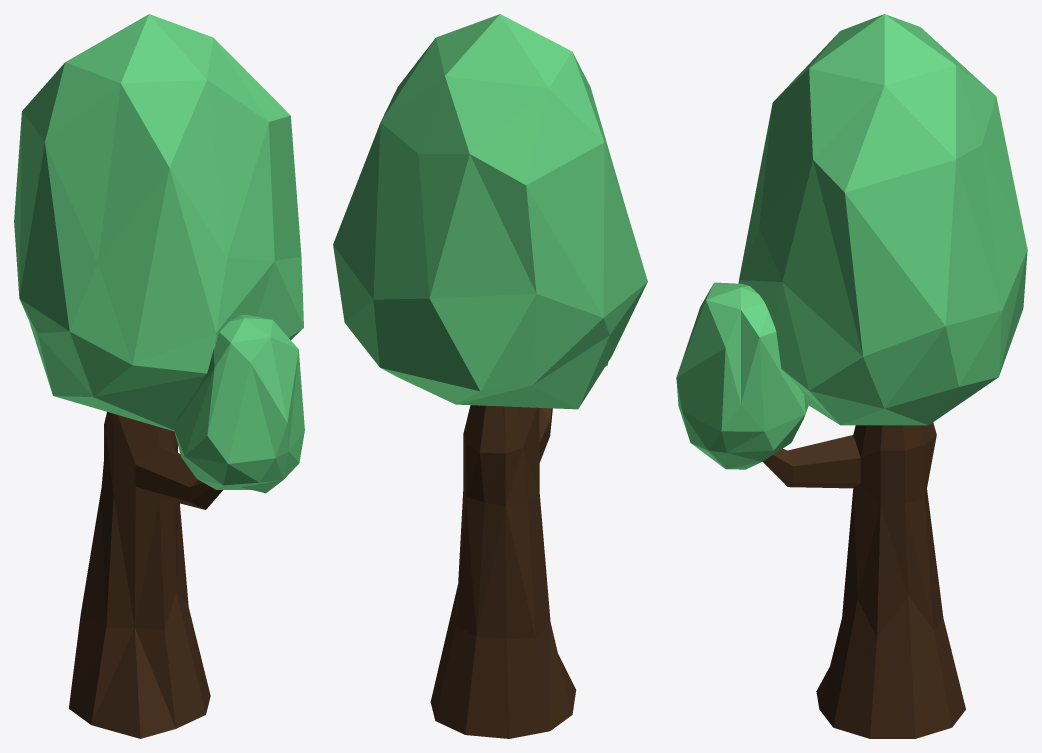
The model's file is baum2.fbx.
3 renders of one model, left to right at view 1: azimuth 30°, elevation 25°; view 2: azimuth 150°, elevation 25°; view 3: azimuth 270°, elevation 25°, orthographic.
Visible parts, largest first — view 1: baum2_baumkrone1, baum2, baum2_baumkrone2; view 2: baum2_baumkrone1, baum2; view 3: baum2_baumkrone1, baum2, baum2_baumkrone2.
Boxes of the visible parts, x1,y1,x2,y2 form: baum2_baumkrone1: [14, 14, 303, 431]; baum2: [69, 412, 222, 738]; baum2_baumkrone2: [173, 314, 304, 493]; baum2_baumkrone1: [333, 14, 647, 409]; baum2: [430, 405, 576, 738]; baum2_baumkrone1: [738, 14, 1027, 425]; baum2: [763, 422, 965, 738]; baum2_baumkrone2: [676, 282, 808, 469].
Bounding box in the file's own units: 178 × 454 × 207.
